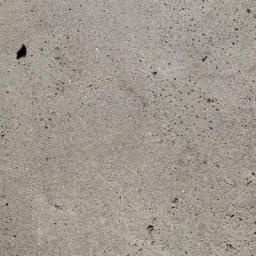FOD: (14, 43, 30, 65)
